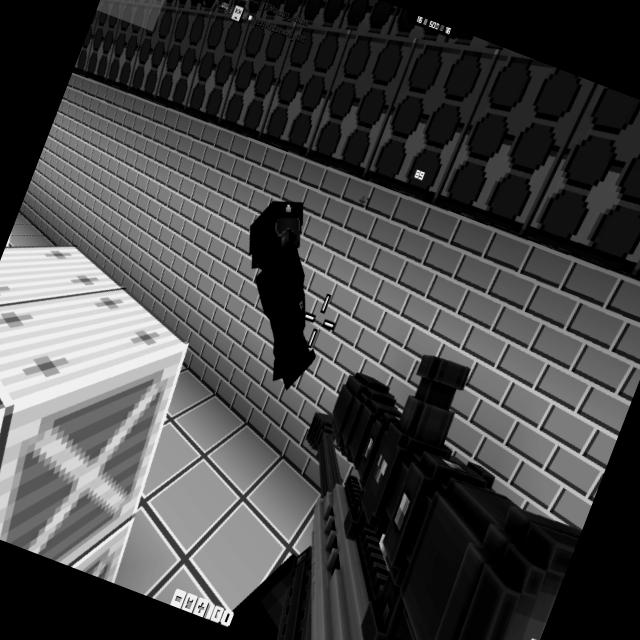Head: (236, 188, 314, 282)
Player: (199, 186, 366, 397)
